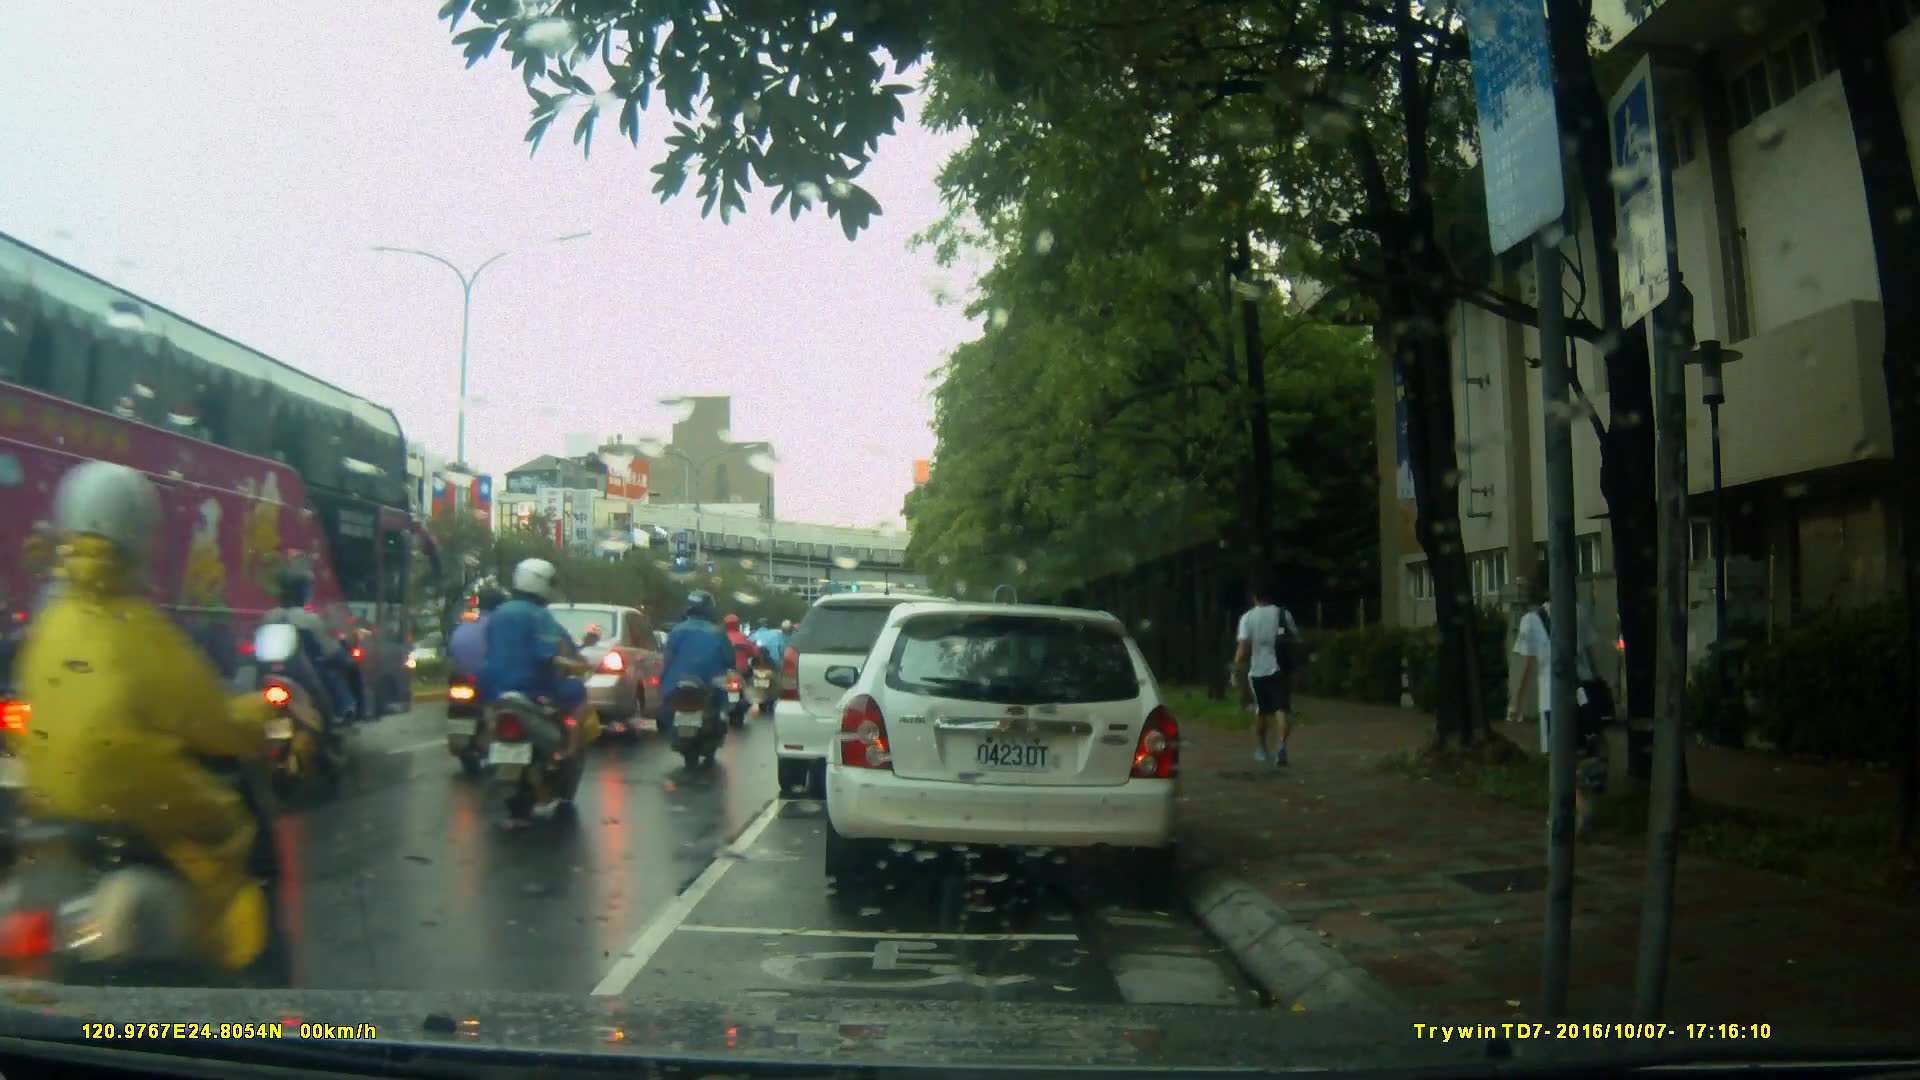pedestrian: (1501, 549, 1597, 836), (1227, 569, 1313, 785)
rider: (15, 457, 283, 1054), (479, 556, 585, 827), (249, 563, 357, 791), (661, 589, 742, 767), (709, 605, 763, 726), (752, 612, 790, 713)
vehicle: (9, 244, 410, 859), (812, 604, 1188, 881), (774, 595, 995, 802), (472, 601, 689, 743)
